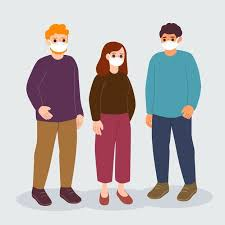masked: (99, 39, 131, 73), (42, 23, 73, 55), (156, 23, 183, 49)
